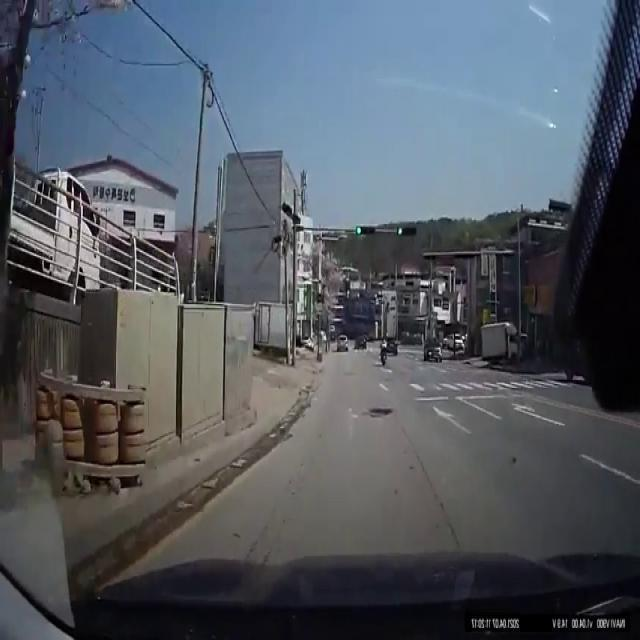pothole: (367, 406, 393, 418)
